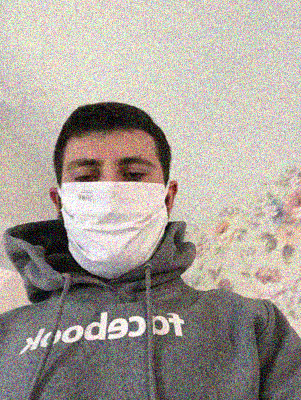with_mask: (60, 147, 167, 275)
